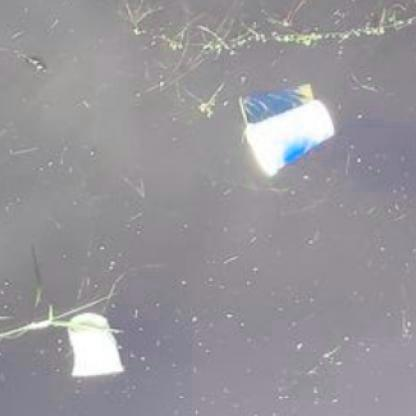Plastic: (234, 77, 338, 179)
Trash: (64, 308, 127, 383)
